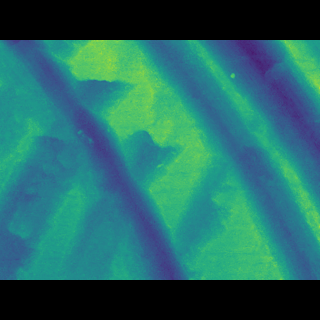Loch: (0, 69, 194, 249), (128, 70, 320, 250)
